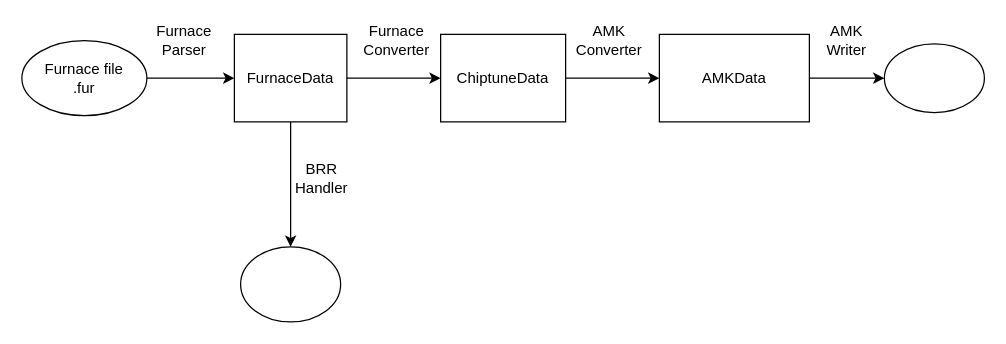
Image size: 1006x344. Some labels were removed from this diagram. The shapes that lost their labels are listed below. From the top down, each one's centre as x and y in pixels, then its label:
(x=933, y=77): AMK File .txt
(x=290, y=284): BRR files .brr
